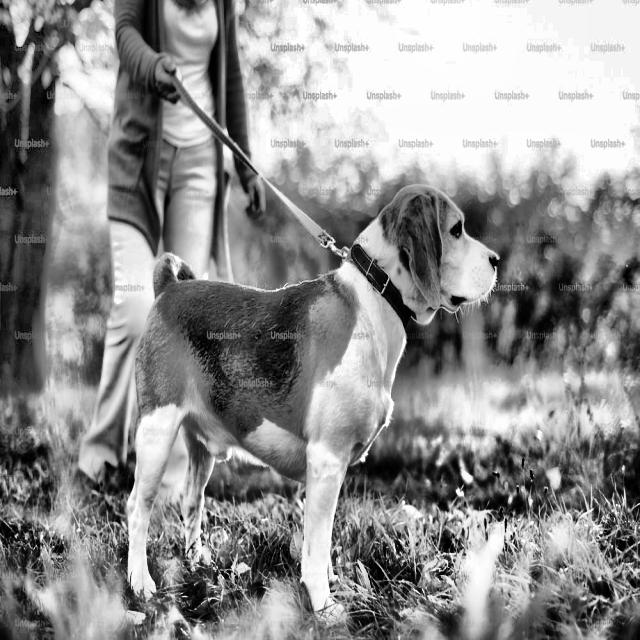beagle: (357, 160, 504, 344)
